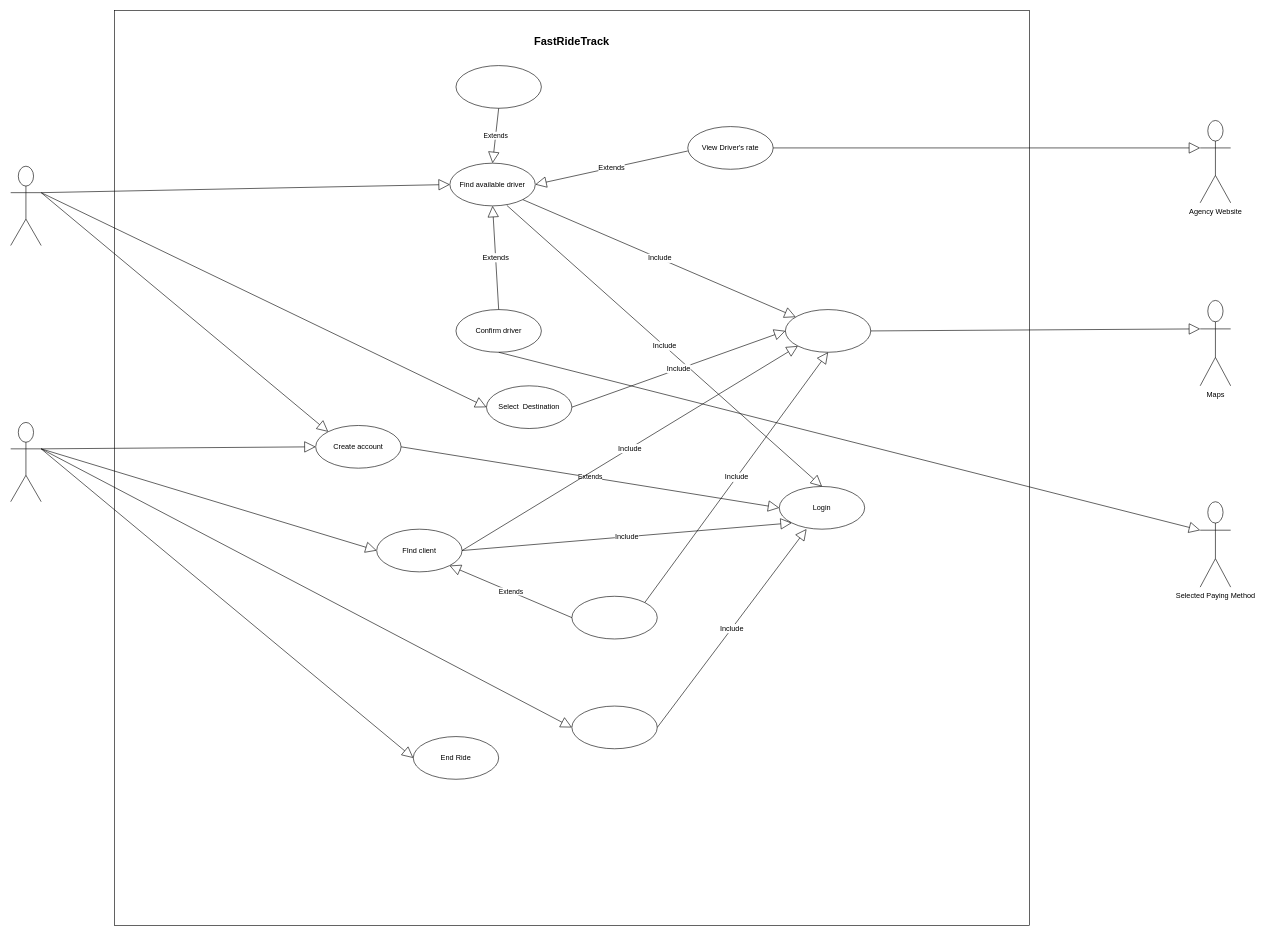
The diagram is 1266 pixels wide and 936 high, and some of its shapes have lost their labels. The shapes that lost their labels are listed below. From the top down, each one's centre as x and y in pixels, then its label:
(x=498, y=86): Rate Driver
(x=25, y=206): Client
(x=828, y=330): View Map(Navigator)
(x=25, y=462): Driver
(x=614, y=617): Start ride
(x=614, y=727): Display Driver's Details
